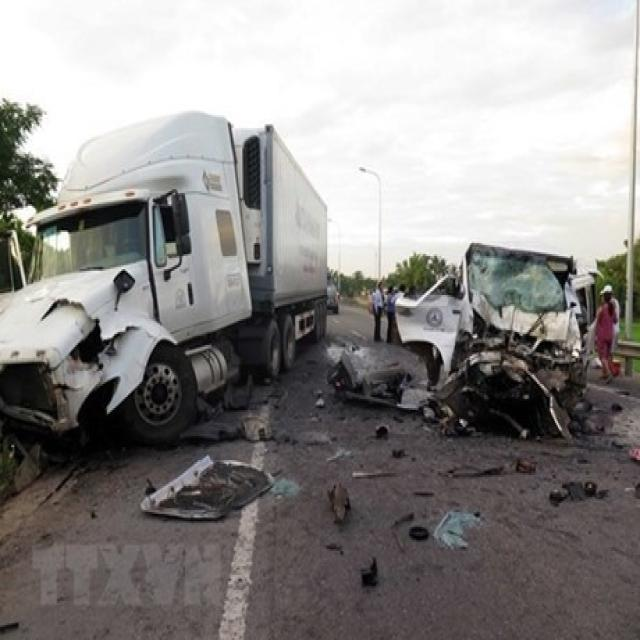accident: (9, 161, 257, 543), (340, 226, 624, 463)
